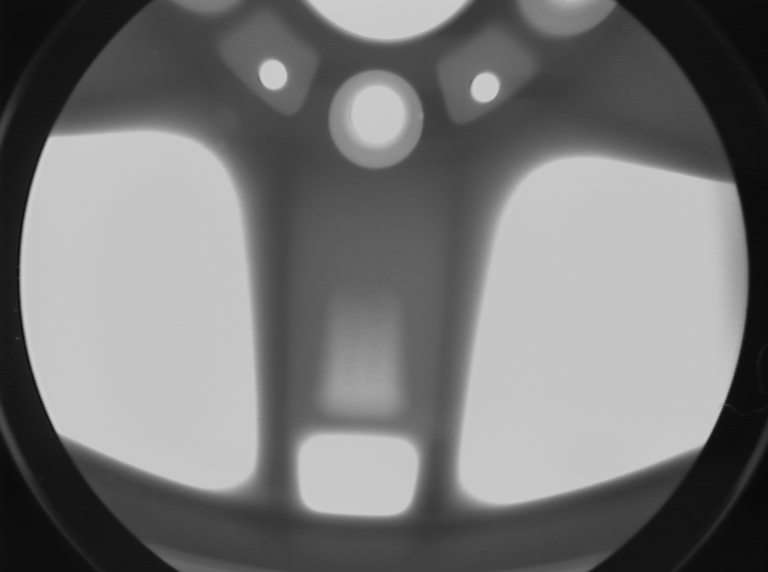defect: (147, 45, 163, 65)
